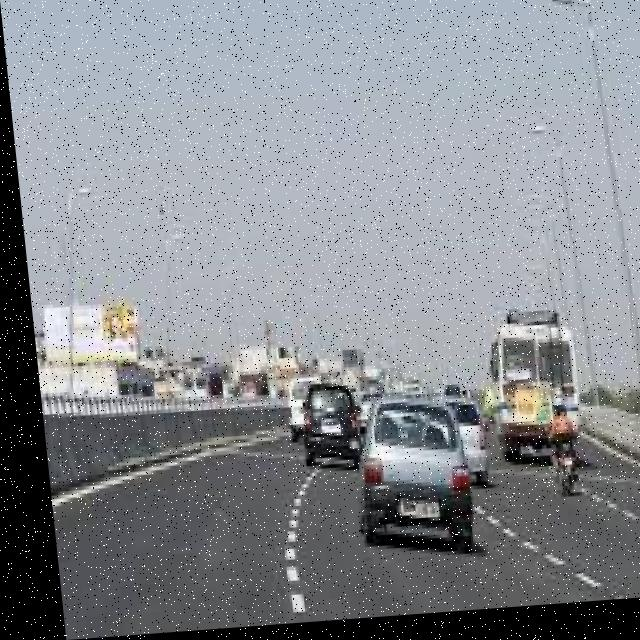car: (339, 411, 472, 545), (283, 365, 357, 474)
